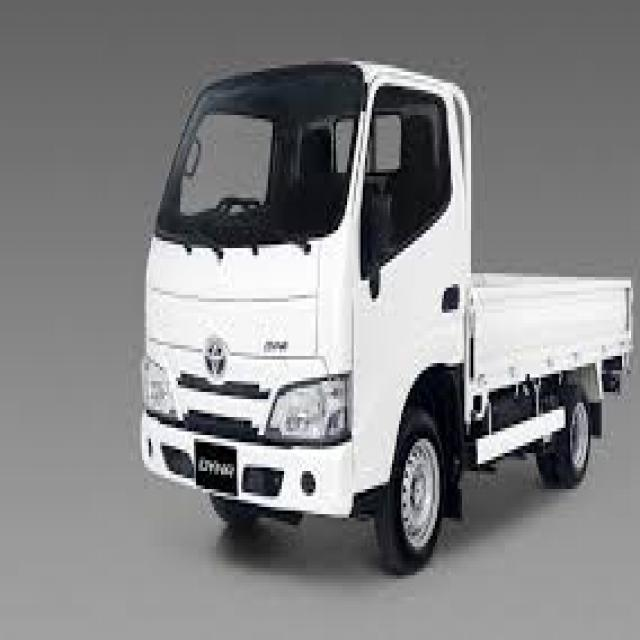truck: (111, 23, 640, 613)
